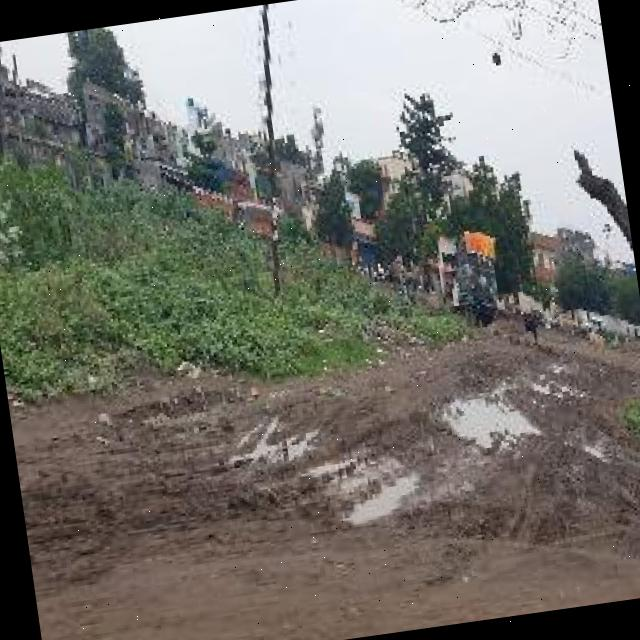stagnation: (443, 379, 522, 456)
